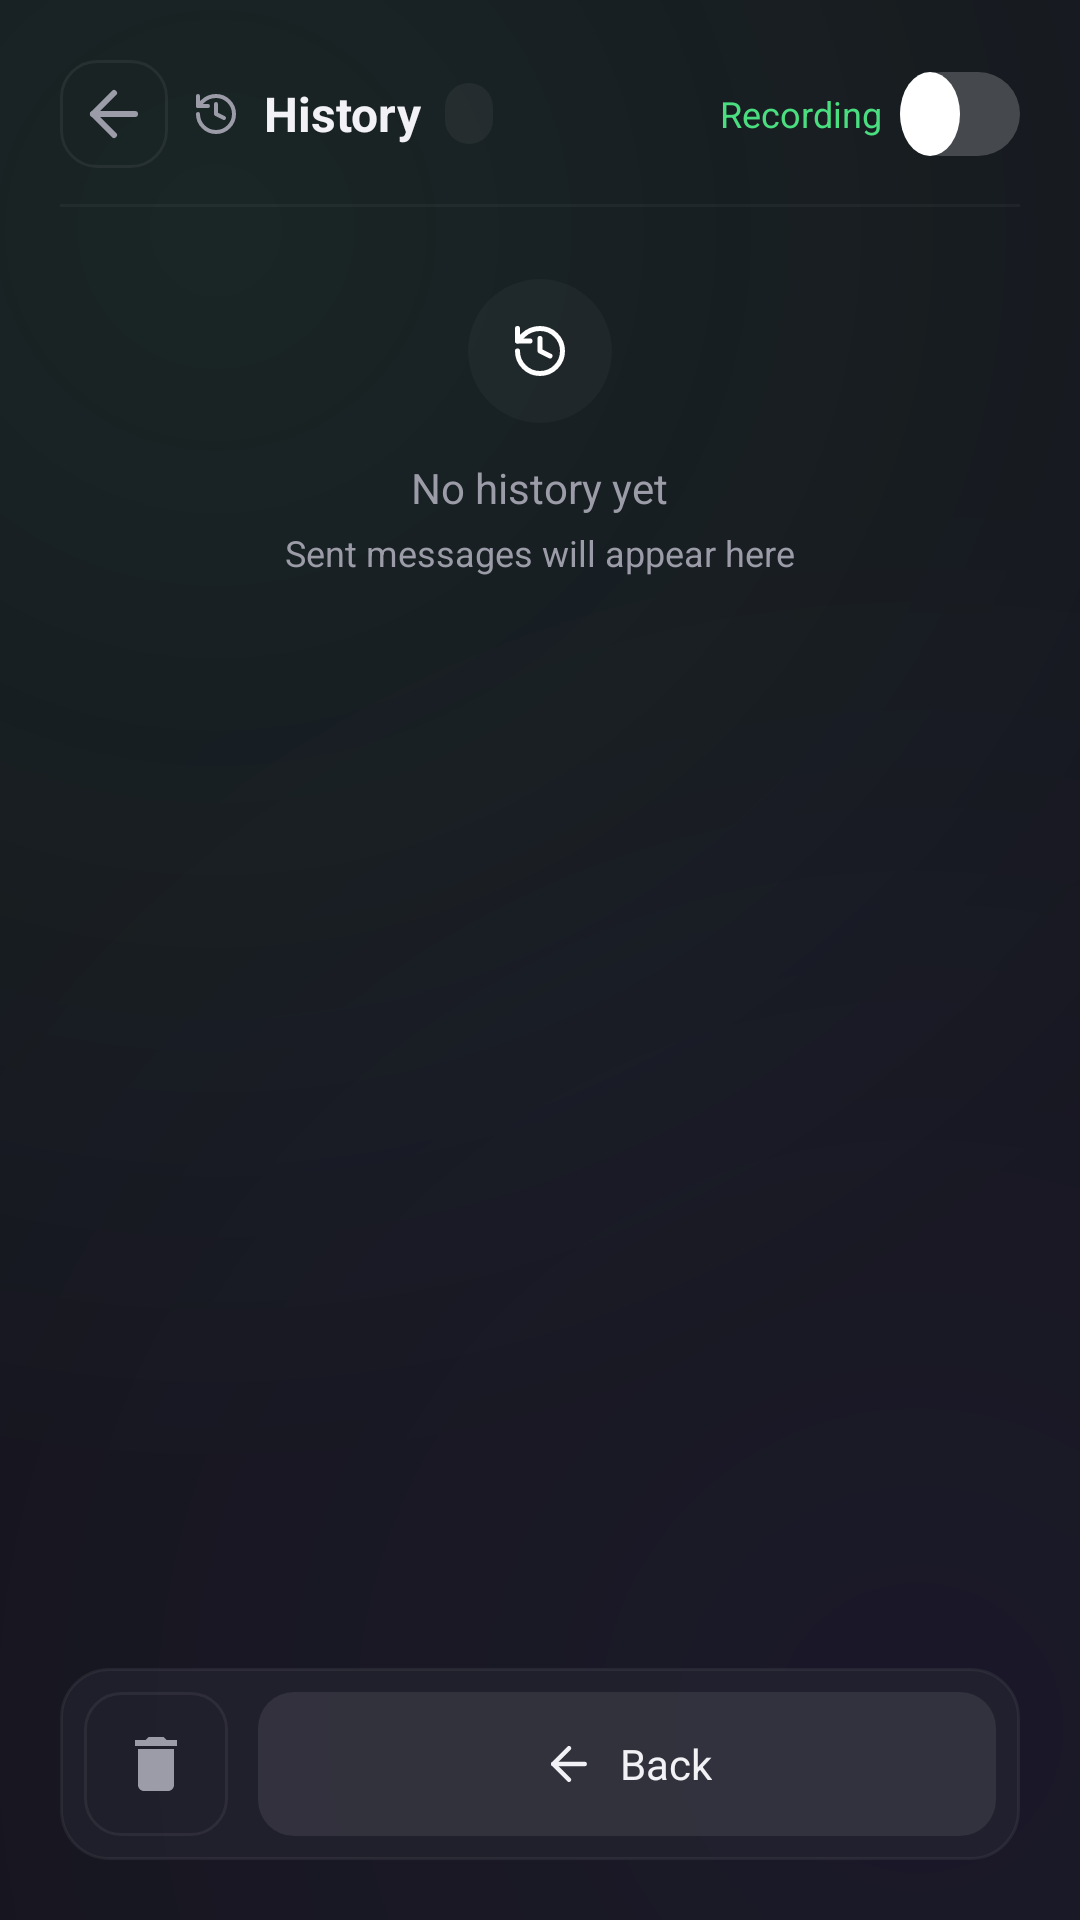

Icons on this 1080x1920 Android screen, each with its box as rect(x1, y1, x2, y2):
arrow left: rect(551, 1746, 587, 1782)
Back: rect(90, 90, 138, 138)
